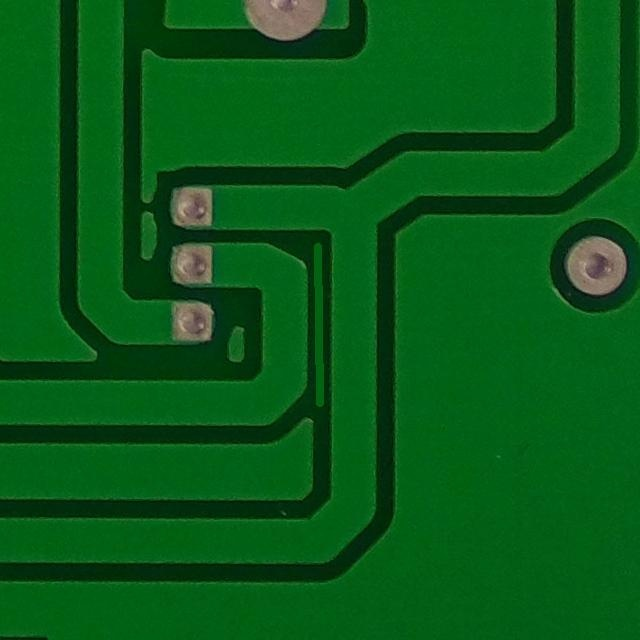spurious_copper: (295, 226, 346, 415)
